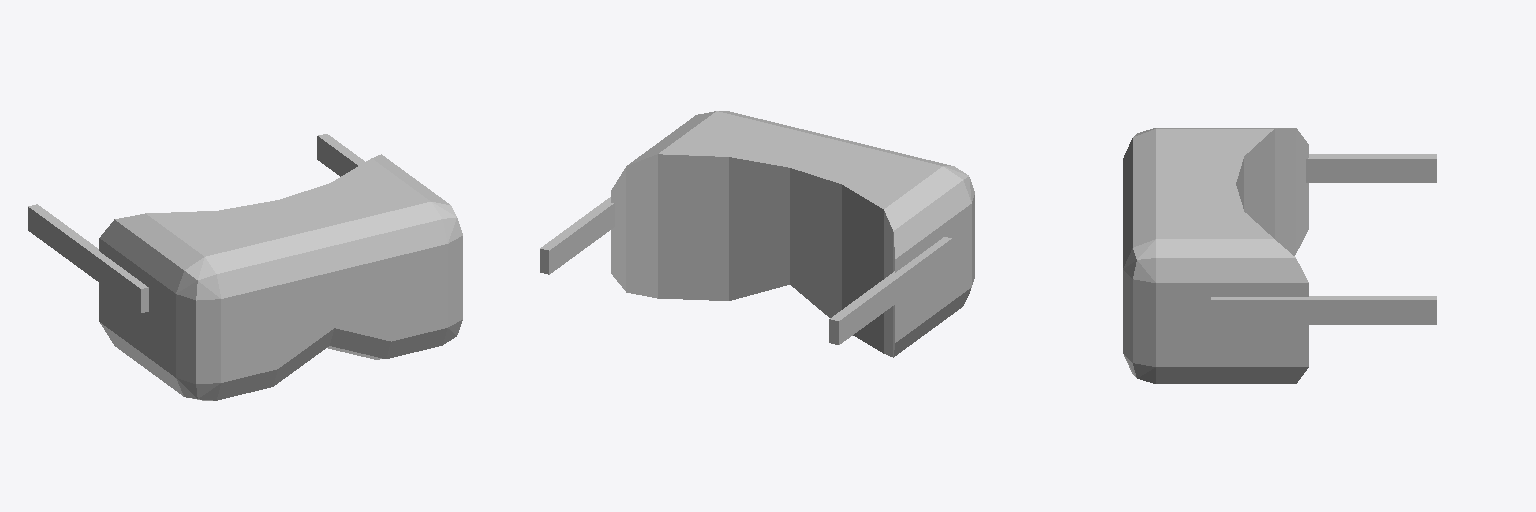
File: vee_arr.obj
The picture shows the model from 3 angles: view 1: azimuth 30°, elevation 25°; view 2: azimuth 150°, elevation 25°; view 3: azimuth 270°, elevation 25°; orthographic projection.
Visible parts, largest first — view 1: quest; view 2: quest; view 3: quest.
Part boxes in pixels (bbox=[...]): quest: bbox=[28, 134, 462, 400]; quest: bbox=[540, 111, 974, 357]; quest: bbox=[1123, 128, 1436, 383].
Bounding box in the file's own units: 0.3826 × 0.1763 × 0.3482.